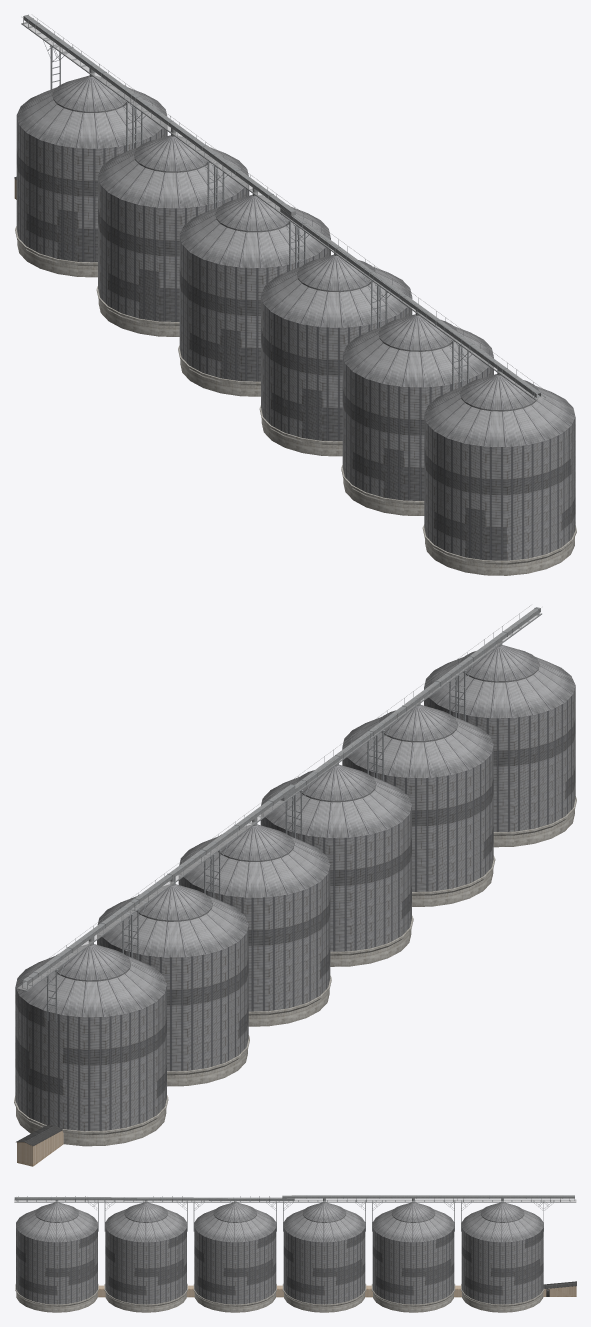
The model's file is plant-silos1.glb.
The picture shows the model from 3 angles, top to bottom: view 1: azimuth 30°, elevation 25°; view 2: azimuth 150°, elevation 25°; view 3: azimuth 270°, elevation 25°; orthographic projection. The views are drawn at different scales.
Visible parts, largest first — view 1: Object8932099; view 2: Object8932099; view 3: Object8932099.
Part boxes in pixels (bbox=[...]): Object8932099: bbox=[14, 14, 576, 575]; Object8932099: bbox=[14, 605, 576, 1166]; Object8932099: bbox=[14, 1195, 576, 1312].
Bounding box in the file's own units: 24.29 × 31.63 × 162.
Materials: 1 (1 with a texture image).
